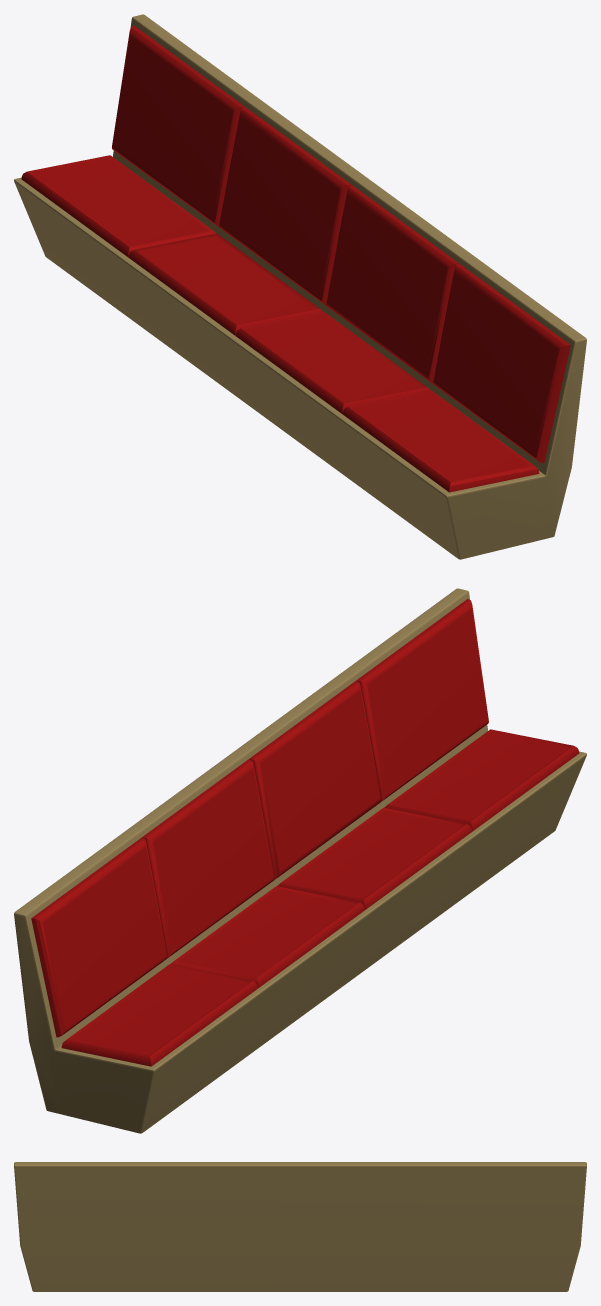
The model's file is Food Court_Long Seat.fbx.
3 views of the same model, one above another, from view 1: azimuth 30°, elevation 25°; view 2: azimuth 150°, elevation 25°; view 3: azimuth 270°, elevation 25° (orthographic). The views are drawn at different scales.
Parts seen in each view (by area): view 1: pCube20; view 2: pCube20; view 3: pCube20.
Boxes of the visible parts, bbox=[...] form: pCube20: bbox=[14, 14, 586, 559]; pCube20: bbox=[14, 588, 586, 1133]; pCube20: bbox=[14, 1162, 586, 1291].
Bounding box in the file's own units: 1.79 × 2.57 × 10.13.
